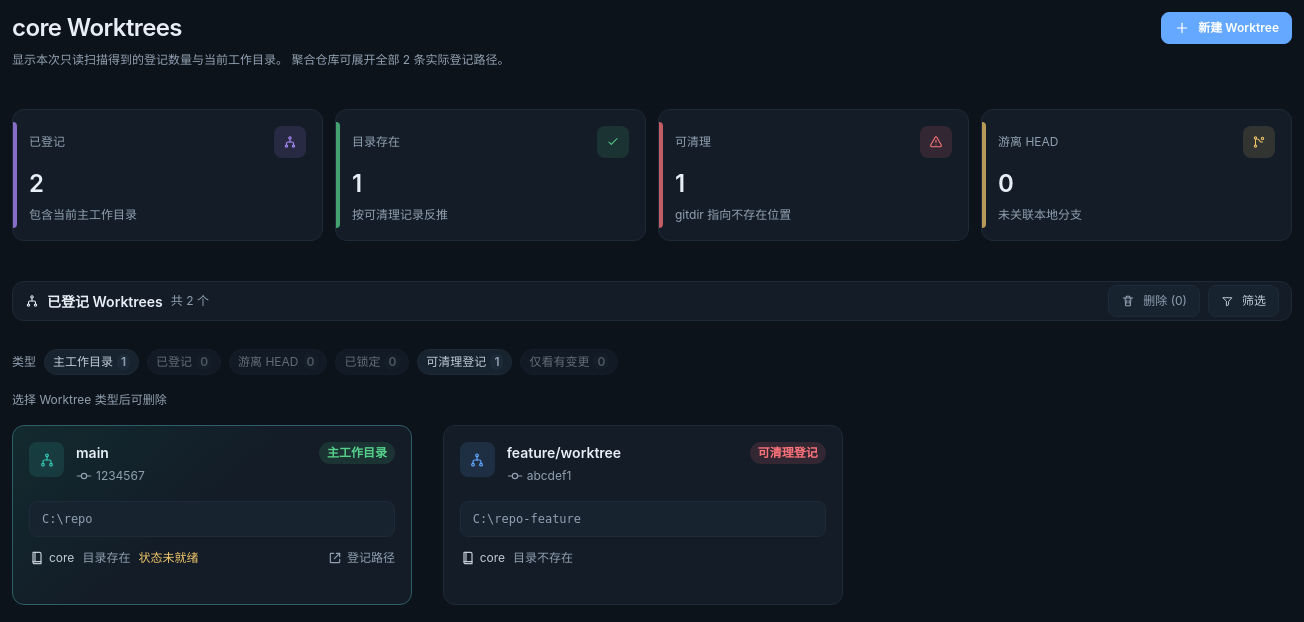
it: RepositoryWorktrees registered cards › keeps the toolbar clear action disabled until the prunable type is selected
Expected: the element showing "新建 Worktree" is shown, [1161, 12, 1292, 44]
Expected: the button "删除 (0)" is disabled, [1108, 285, 1200, 317]
What coordinates should you click on to do the following:
click the button with class "worktree-filter-chip" showing "可清理登记 1"
I would click on:
 (465, 362)
Its box is [417, 349, 512, 375].
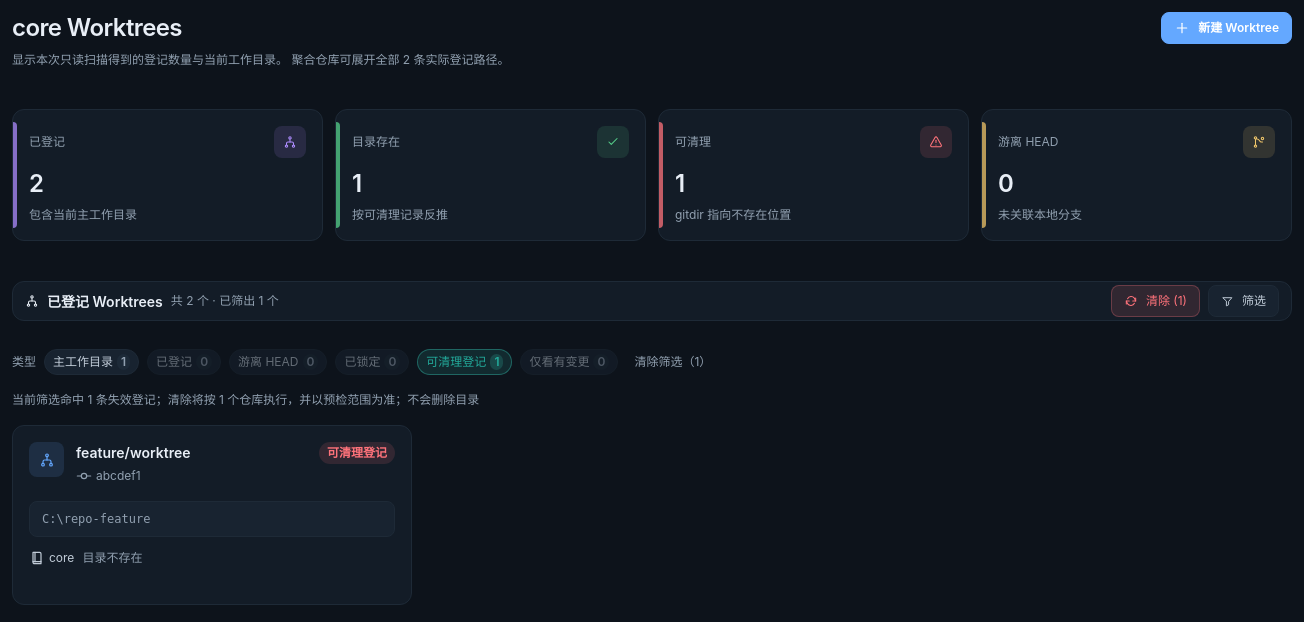
Now the button "清除 (1)" is enabled, box [1111, 285, 1200, 317]
